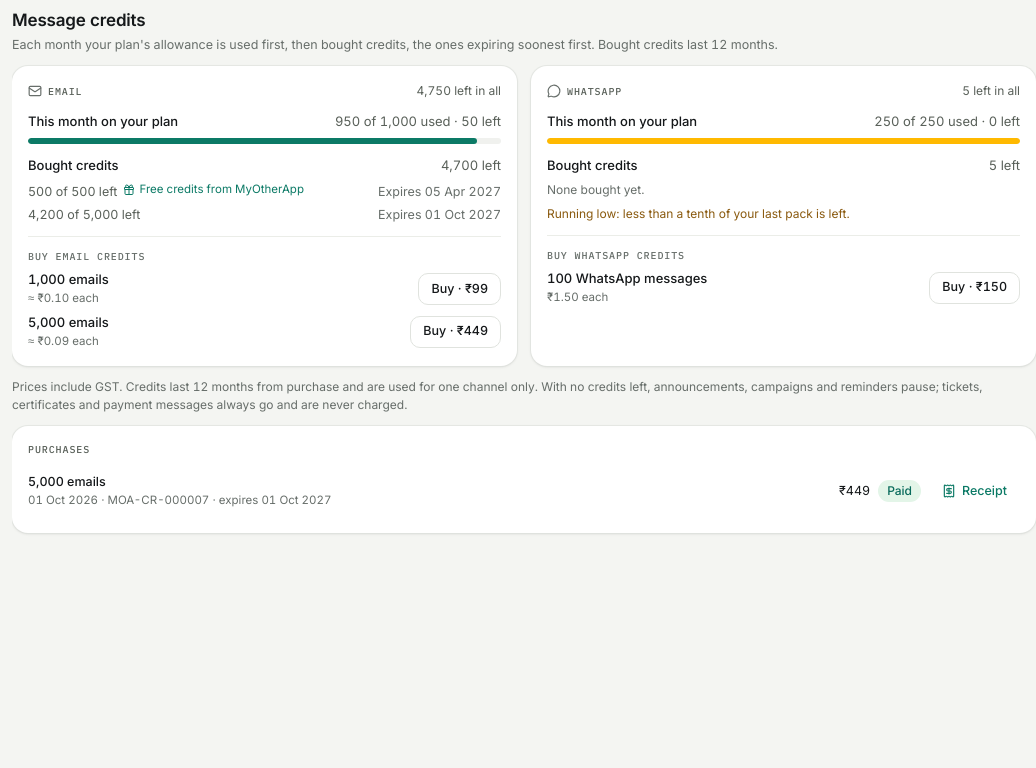
Test: buying a pack › waits for Razorpay when the payment is not captured yet, and says so once the server has it
The width and height of the screenshot is (1036, 768).
Click the button with aria-label "Buy 1,000 emails for ₹99" at coordinates (460, 289), box [418,273,501,305]
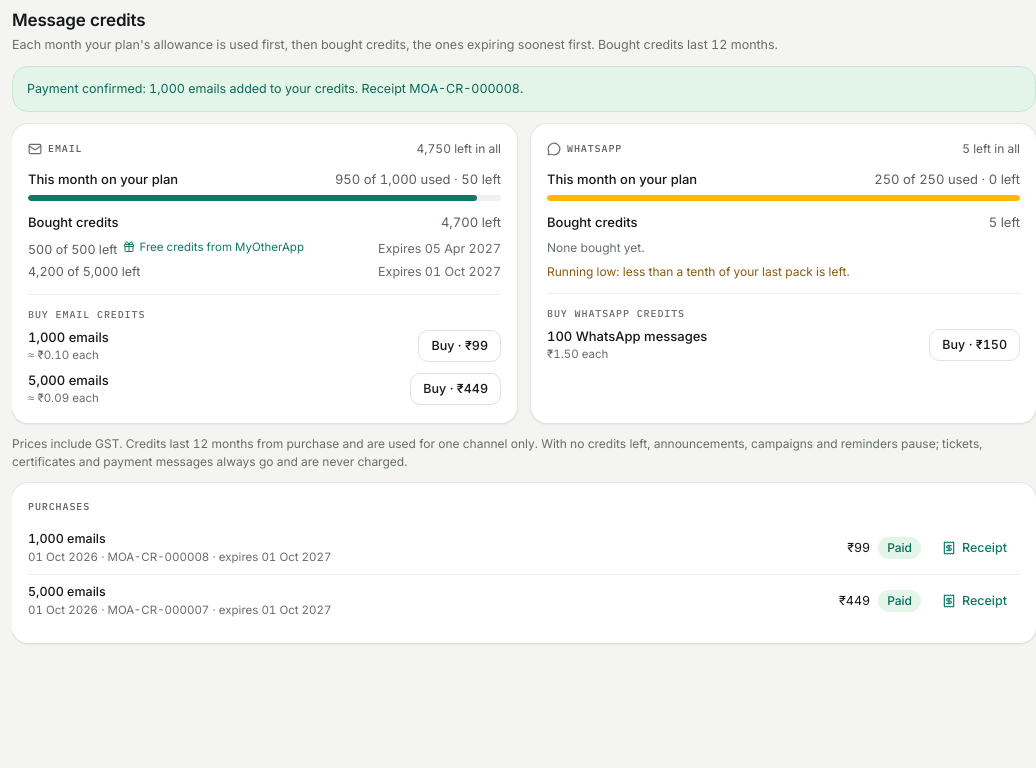
Expected: the text "Payment confirmed: 1,000 emails added to your credits. Receipt MOA-CR-000008." is shown, [27,81,523,96]
